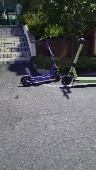beam: (19, 35, 62, 86)
gcooter: (61, 36, 96, 87)
